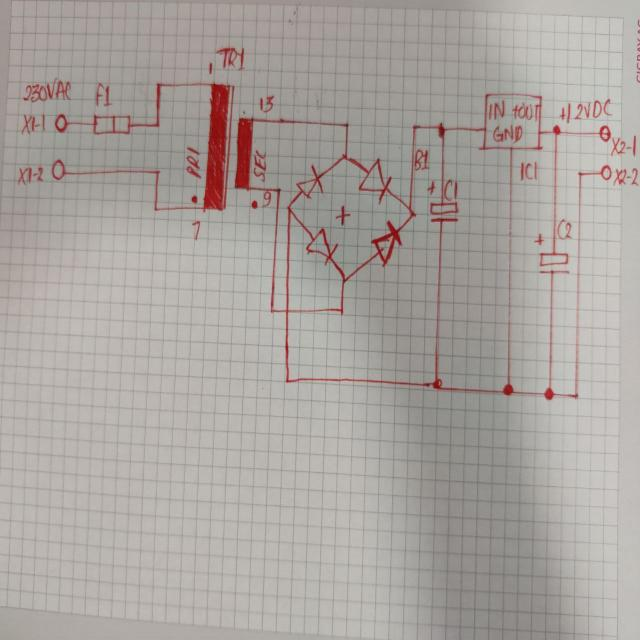capacitor: (532, 228, 573, 279), (426, 177, 461, 227)
crossover: (282, 305, 290, 316)
diode: (357, 154, 392, 204), (370, 218, 402, 268), (304, 225, 338, 267), (295, 163, 325, 202)
junction: (542, 385, 554, 401), (431, 376, 443, 391), (502, 382, 514, 396), (406, 206, 418, 220), (550, 123, 562, 137), (436, 121, 446, 137), (340, 150, 350, 163), (338, 271, 348, 284), (336, 304, 346, 316), (154, 78, 164, 90), (571, 389, 580, 401), (153, 118, 161, 130), (285, 201, 293, 213), (151, 203, 159, 214), (410, 121, 418, 132), (342, 119, 350, 129), (153, 167, 161, 177), (283, 375, 291, 385), (274, 185, 282, 194), (576, 169, 584, 178), (268, 305, 275, 314)
terminal: (49, 157, 67, 182), (596, 122, 612, 144), (53, 111, 69, 133), (599, 163, 613, 181)
text: (560, 96, 612, 122), (22, 78, 72, 104), (605, 127, 637, 158), (215, 44, 245, 71), (18, 110, 46, 137), (15, 162, 46, 185), (491, 122, 523, 144), (608, 164, 638, 187), (511, 100, 542, 122), (184, 146, 202, 178), (93, 80, 111, 108), (252, 149, 267, 181), (486, 98, 506, 122), (412, 146, 430, 172), (518, 159, 538, 182), (333, 204, 351, 228), (556, 217, 572, 240), (443, 178, 459, 201), (258, 92, 274, 113), (190, 218, 201, 242), (261, 190, 273, 209), (206, 59, 214, 78)
transformer: (190, 81, 260, 217)
